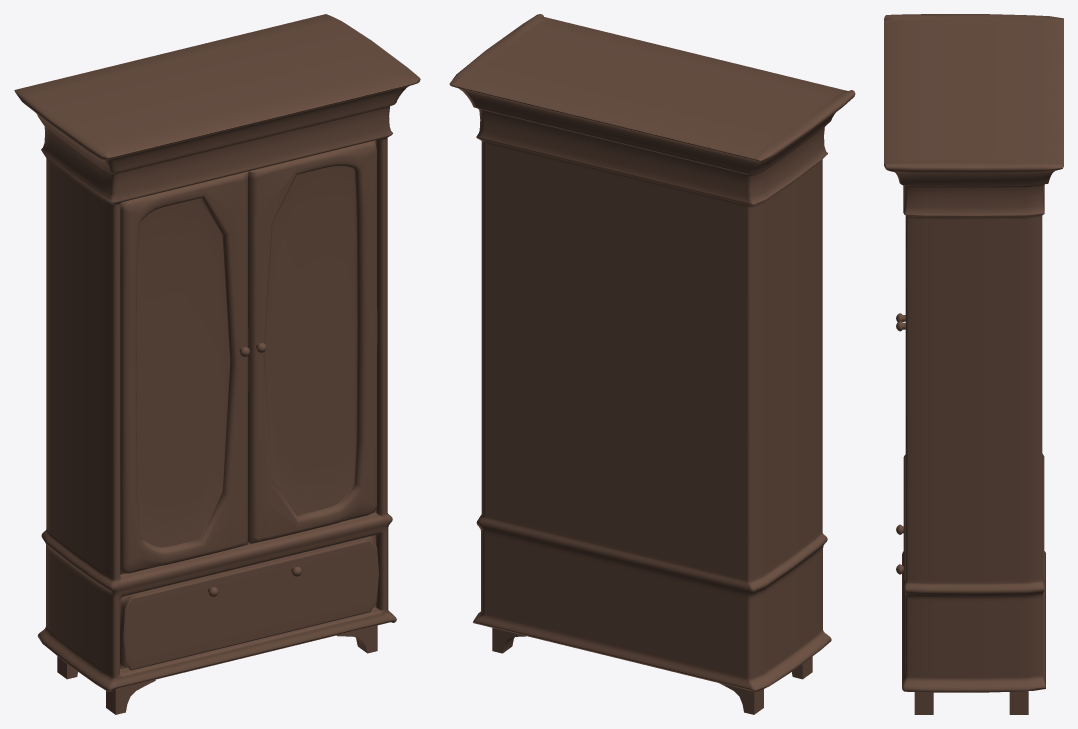
Rendered from armoire.fbx.
3 renders of one model, left to right at view 1: azimuth 30°, elevation 25°; view 2: azimuth 150°, elevation 25°; view 3: azimuth 270°, elevation 25°, orthographic. The views are drawn at different scales.
Visible parts, largest first — view 1: pSphere6; view 2: pSphere6; view 3: pSphere6.
Boxes of the visible parts, x1=… form: pSphere6: x1=14, y1=14, x2=420, y2=714; pSphere6: x1=449, y1=14, x2=855, y2=714; pSphere6: x1=884, y1=14, x2=1063, y2=714.
Size of the model in its own units: 589 by 1005 by 291.
